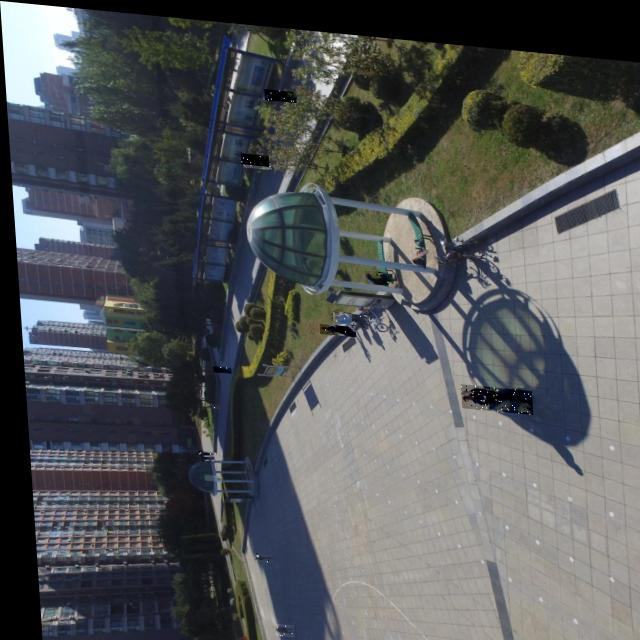Person: (456, 374, 528, 404), (326, 303, 366, 320), (361, 262, 394, 279), (316, 317, 352, 329), (263, 83, 296, 96), (239, 148, 267, 161), (266, 618, 286, 631), (329, 305, 348, 318), (241, 156, 270, 164), (248, 548, 265, 558), (208, 361, 226, 369), (198, 470, 215, 477), (195, 451, 208, 458), (193, 446, 208, 452), (200, 399, 214, 405)
